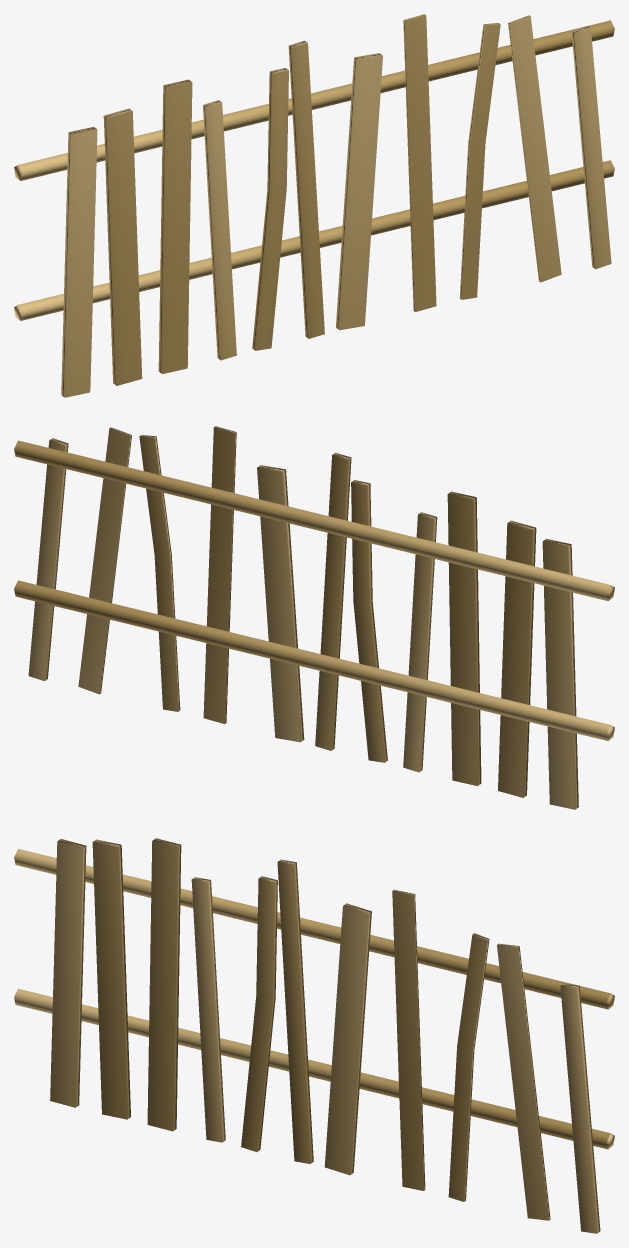
The model's file is Fence.fbx.
3 views of the same model, one above another, from view 1: azimuth 30°, elevation 25°; view 2: azimuth 150°, elevation 25°; view 3: azimuth 330°, elevation 25° (orthographic).
Parts seen in each view (by area): view 1: pCube13; view 2: pCube13; view 3: pCube13.
Part boxes in pixels (bbox=[...]): pCube13: bbox=[14, 14, 614, 397]; pCube13: bbox=[14, 426, 614, 809]; pCube13: bbox=[14, 838, 614, 1233].
Size of the model in its own units: 1.95 by 0.9352 by 0.066.
1 material, 1 textured.
